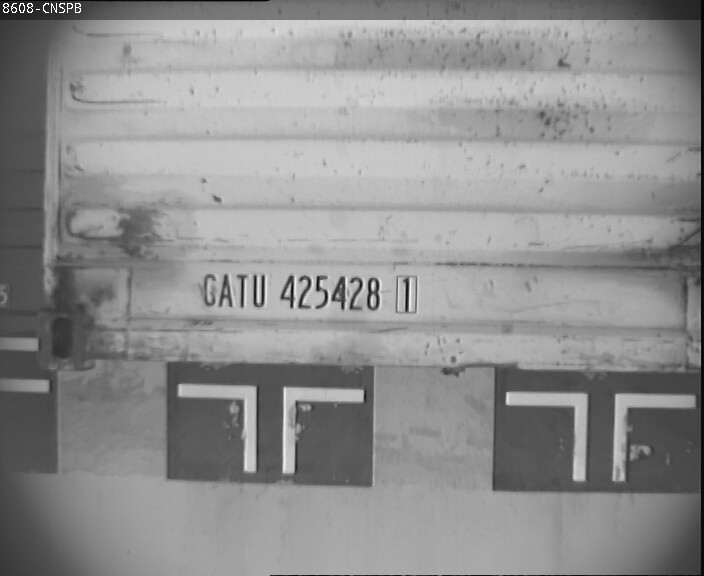groundmarker_1: (508, 390, 694, 480), (177, 383, 362, 473)
